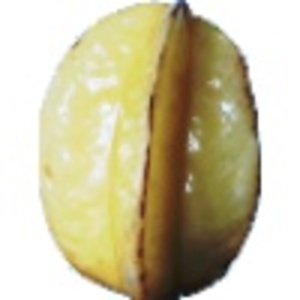carambola: (37, 1, 263, 300)
